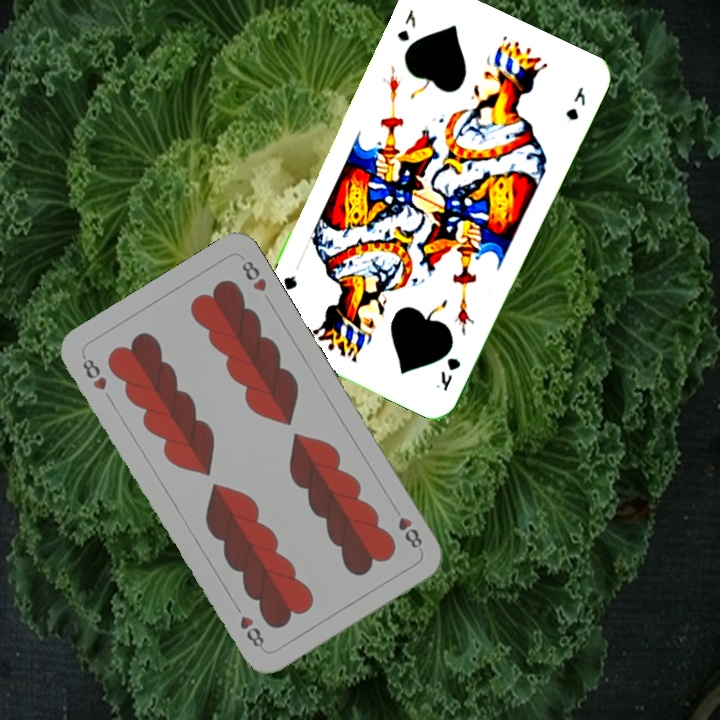GK: (436, 353, 464, 394), (392, 5, 419, 44)
H8: (388, 501, 425, 551), (78, 351, 110, 393)
